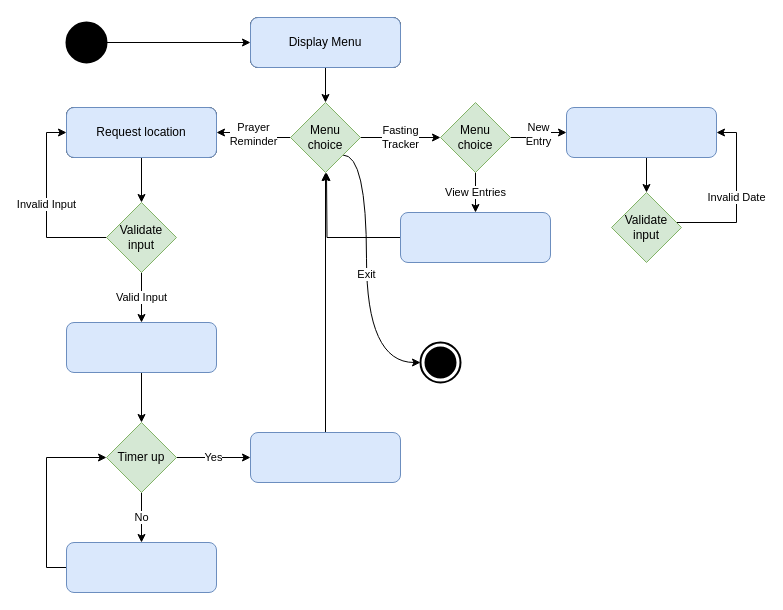
Image size: 783x610. Some labels were removed from this diagram. The centre of each missing label's shape, as x and y in pixels:
Enter Date: the point at 641,132
List 30 past entries: the point at 475,237
Notify User: the point at 325,457
Start prayer timer: the point at 141,347
Update timer: the point at 141,567
